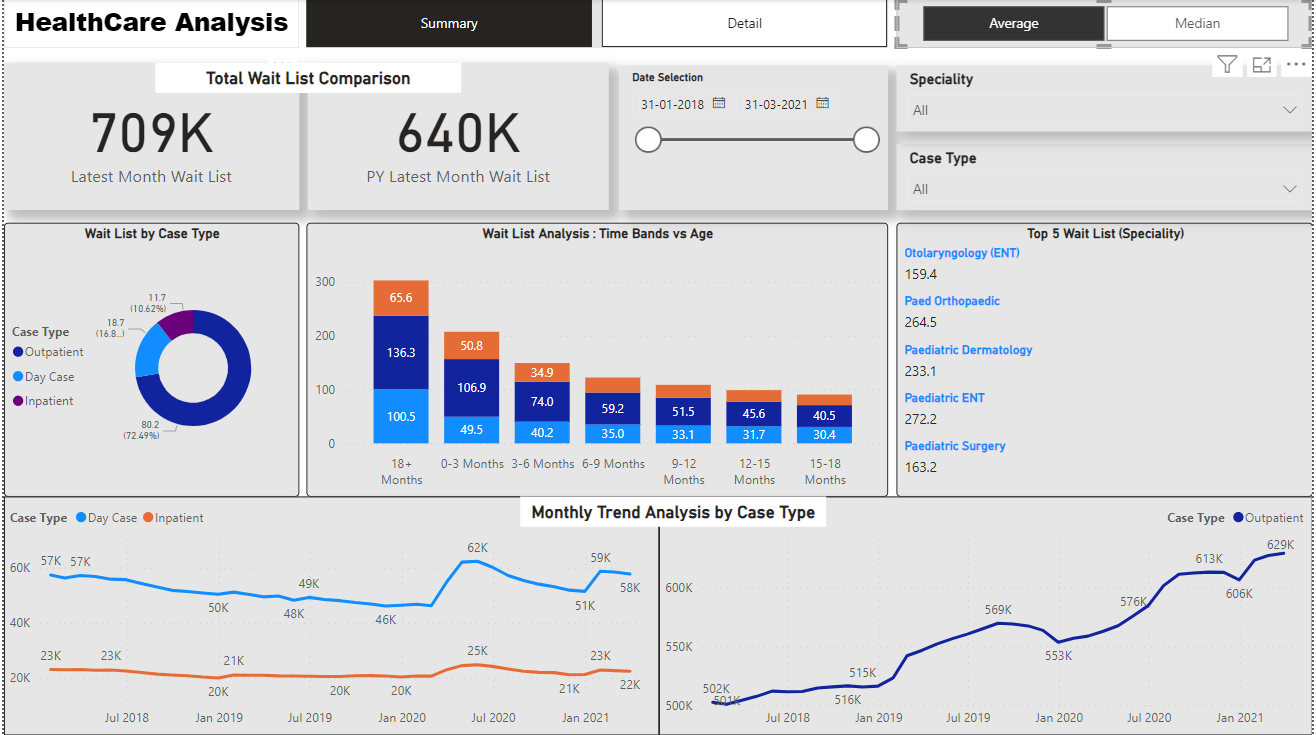

The page's visual inventory and layout, read from the dashboard file:
{"tool":"powerbi","page":{"name":"Summary","canvas":[1280,720],"ordinal":0},"visuals":[{"type":"card","fields":{"Values":["Combined Dataset.Latest Month Wait List"]},"box":[0,62.3,288.5,144.2],"z":0},{"type":"card","fields":{"Values":["Combined Dataset.PY Latest Month Wait List"]},"box":[297,62.3,294.6,144.2],"z":1000},{"type":"slicer","fields":{"Values":["Calculation Method.Calc Method"]},"box":[872.8,0,407.1,47.7],"z":2000},{"type":"donutChart","title":"Wait List by Case Type","fields":{"Category":["Combined Dataset.Case_Type"],"Y":["Combined Dataset.Avg/Med Wait List"]},"box":[0,218.8,288.5,267.7],"z":3000},{"type":"columnChart","title":"Wait List Analysis : Time Bands vs Age","fields":{"Y":["Combined Dataset.Avg/Med Wait List"],"Category":["Combined Dataset.Time_Bands"],"Series":["Combined Dataset.Age_Profile"]},"box":[295.8,218.8,568.4,267.7],"z":4000},{"type":"multiRowCard","title":"Top 5 Wait List (Speciality)","fields":{"Values":["Combined Dataset.Speciality_Name","Combined Dataset.Avg/Med Wait List"]},"box":[872.8,218.8,407.1,267.7],"z":5000},{"type":"lineChart","fields":{"Category":["Combined Dataset.Archive_Date"],"Y":["Sum(Combined Dataset.Total)"],"Series":["Combined Dataset.Case_Type"]},"box":[0,486.5,640.5,233.5],"z":6000},{"type":"lineChart","fields":{"Category":["Combined Dataset.Archive_Date"],"Y":["Sum(Combined Dataset.Total)"],"Series":["Combined Dataset.Case_Type"]},"box":[640.5,486.5,639.3,233.5],"z":7000},{"type":"slicer","fields":{"Values":["Combined Dataset.Archive_Date"]},"box":[601.4,64.8,262.8,141.8],"z":8000},{"type":"slicer","fields":{"Values":["Combined Dataset.Case_Type"]},"box":[872.8,141.8,407.1,65],"z":9000},{"type":"slicer","fields":{"Values":["Combined Dataset.Speciality_Name"]},"box":[872.8,64.8,407.1,65],"z":10000},{"type":"pageNavigator","box":[295.8,0,568.4,47.7],"z":11000},{"type":"textbox","box":[0,0,288.5,47.7],"z":12000},{"type":"textbox","box":[147.9,62.3,299.5,29.3],"z":13000},{"type":"textbox","box":[504.9,486.5,299.5,29.3],"z":14000}]}

Visuals, with their boxes in screenshot pixels (x1, y1, x2, y2), scaled from the page's 1280x720 canvas onto the 1316x735 screenshot:
card - Combined Dataset.Latest Month Wait List: 0,64,297,211
card - Combined Dataset.PY Latest Month Wait List: 305,64,608,211
slicer - Calculation Method.Calc Method: 897,0,1315,49
"Wait List by Case Type" donutChart: 0,223,297,497
"Wait List Analysis : Time Bands vs Age" columnChart: 304,223,889,497
"Top 5 Wait List (Speciality)" multiRowCard: 897,223,1315,497
lineChart - Combined Dataset.Archive_Date x Sum(Combined Dataset.Total): 0,497,659,734
lineChart - Combined Dataset.Archive_Date x Sum(Combined Dataset.Total): 659,497,1315,734
slicer - Combined Dataset.Archive_Date: 618,66,889,211
slicer - Combined Dataset.Case_Type: 897,145,1315,211
slicer - Combined Dataset.Speciality_Name: 897,66,1315,133
pageNavigator: 304,0,889,49
textbox: 0,0,297,49
textbox: 152,64,460,94
textbox: 519,497,827,527
